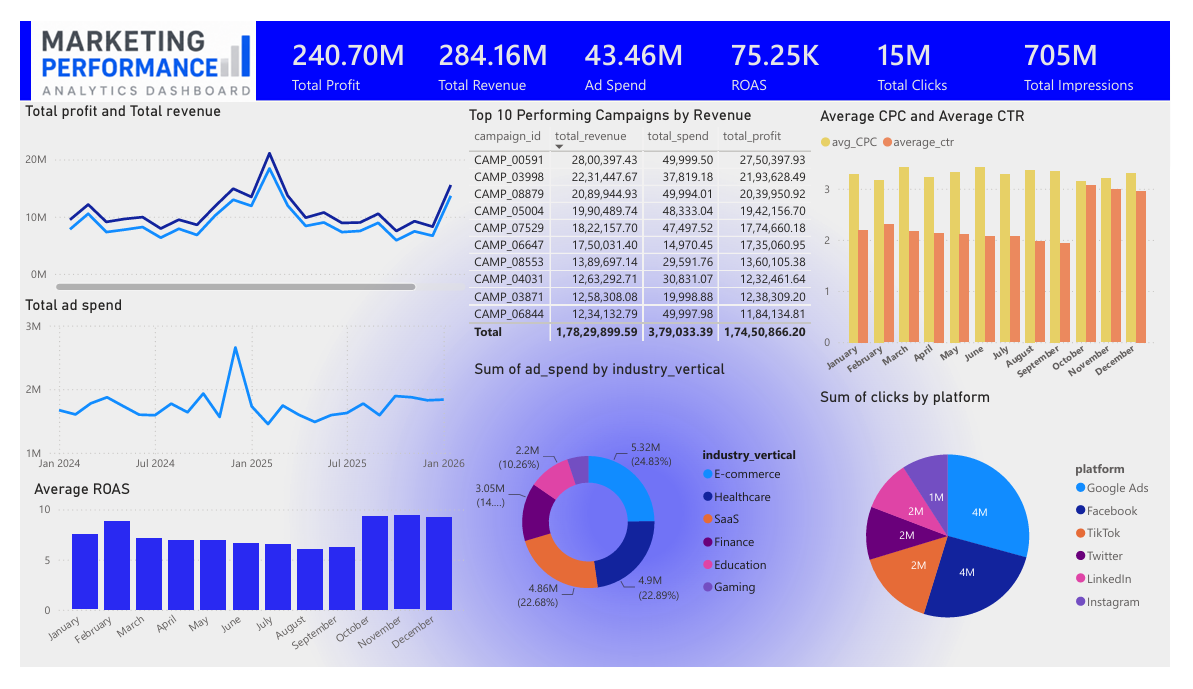

Layout of this report page (visuals, bound fields, positions):
{"tool":"powerbi","page":{"name":"Page 1","canvas":[1280,720],"ordinal":0},"visuals":[{"type":"lineChart","title":"Total profit and Total revenue","fields":{"Y":["imported.total_profit","imported.total_revenue"],"Category":["imported.Start of Month.Variation.Date Hierarchy.Year","imported.Start of Month.Variation.Date Hierarchy.Quarter","imported.Start of Month.Variation.Date Hierarchy.Month"]},"box":[0,89.2,500,216.2],"z":0},{"type":"lineChart","title":"Total ad spend","fields":{"Y":["imported.total_spend"],"Category":["imported.Start of Month.Variation.Date Hierarchy.Year","imported.Start of Month.Variation.Date Hierarchy.Quarter","imported.Start of Month.Variation.Date Hierarchy.Month","imported.Start of Month.Variation.Date Hierarchy.Day"]},"box":[0,305.7,500,205.7],"z":1000},{"type":"columnChart","title":"Average ROAS","fields":{"Y":["imported.avg_ROAS"],"Category":["imported.start_date.Variation.Date Hierarchy.Month"]},"box":[10,511.4,490,208.6],"z":2000},{"type":"pieChart","fields":{"Category":["imported.platform"],"Y":["Sum(imported.clicks)"]},"box":[885,408.3,385,311.7],"z":3000},{"type":"clusteredColumnChart","title":"Average CPC and Average CTR","fields":{"Y":["imported.avg_CPC","imported.average_ctr"],"Category":["imported.start_date.Variation.Date Hierarchy.Month"]},"box":[885,95,385,313.3],"z":4000},{"type":"tableEx","title":"Top 10 Performing Campaigns by Revenue","fields":{"Values":["imported.campaign_id","imported.total_revenue","imported.total_spend","imported.total_profit"]},"box":[494.3,94.3,391.4,282.9],"z":5000},{"type":"donutChart","fields":{"Y":["Sum(imported.ad_spend)"],"Category":["imported.industry_vertical"]},"box":[500,377.1,381.4,342.9],"z":6000},{"type":"cardVisual","fields":{"Data":["imported.total_profit","imported.total_revenue","imported.total_spend","Sum(imported.roas)","Sum(imported.clicks)","Sum(imported.impressions)"]},"box":[273.3,0,1006.7,95],"z":7000},{"type":"image","box":[0,0,273.1,89.2],"z":8000}]}

Visuals, with their boxes in screenshot pixels (x1, y1, x2, y2), scaled from the page's 1280x720 canvas onto the 1193x689 screenshot:
"Total profit and Total revenue" lineChart: (left=0, top=85, right=466, bottom=292)
"Total ad spend" lineChart: (left=0, top=293, right=466, bottom=489)
"Average ROAS" columnChart: (left=9, top=489, right=466, bottom=688)
pieChart - imported.platform x Sum(imported.clicks): (left=825, top=391, right=1184, bottom=688)
"Average CPC and Average CTR" clusteredColumnChart: (left=825, top=91, right=1184, bottom=391)
"Top 10 Performing Campaigns by Revenue" tableEx: (left=461, top=90, right=826, bottom=361)
donutChart - Sum(imported.ad_spend) x imported.industry_vertical: (left=466, top=361, right=821, bottom=688)
cardVisual - imported.total_profit x imported.total_revenue: (left=255, top=0, right=1192, bottom=91)
image: (left=0, top=0, right=255, bottom=85)
